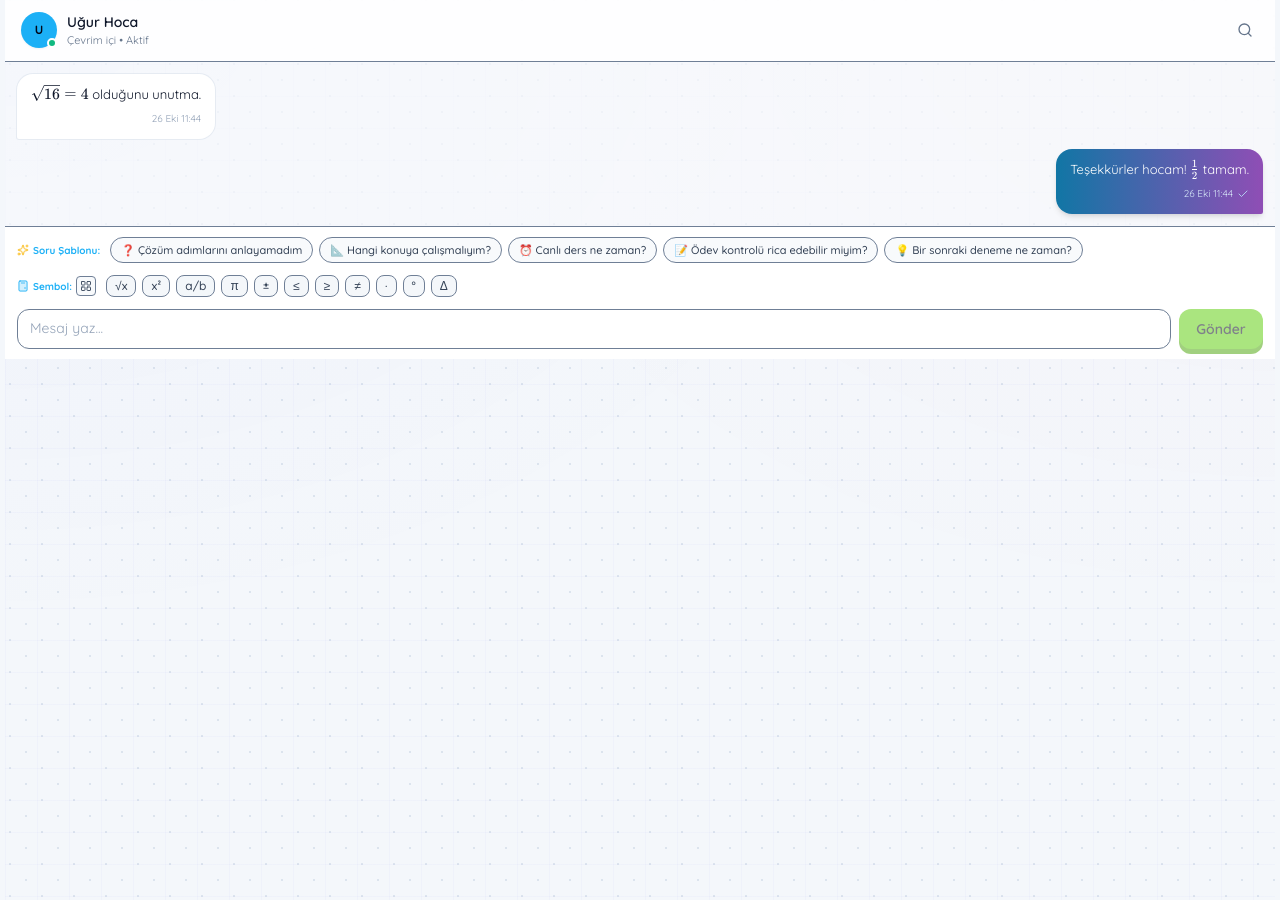
Test: SupportChatPanel Component › sembol ızgara butonuna tıklandığında tüm sembolleri ızgara formatında açar ve kapatır
Step 1. Click the button named "Tüm sembolleri ızgara olarak göster" → point(86, 286), box [76,276,96,296]
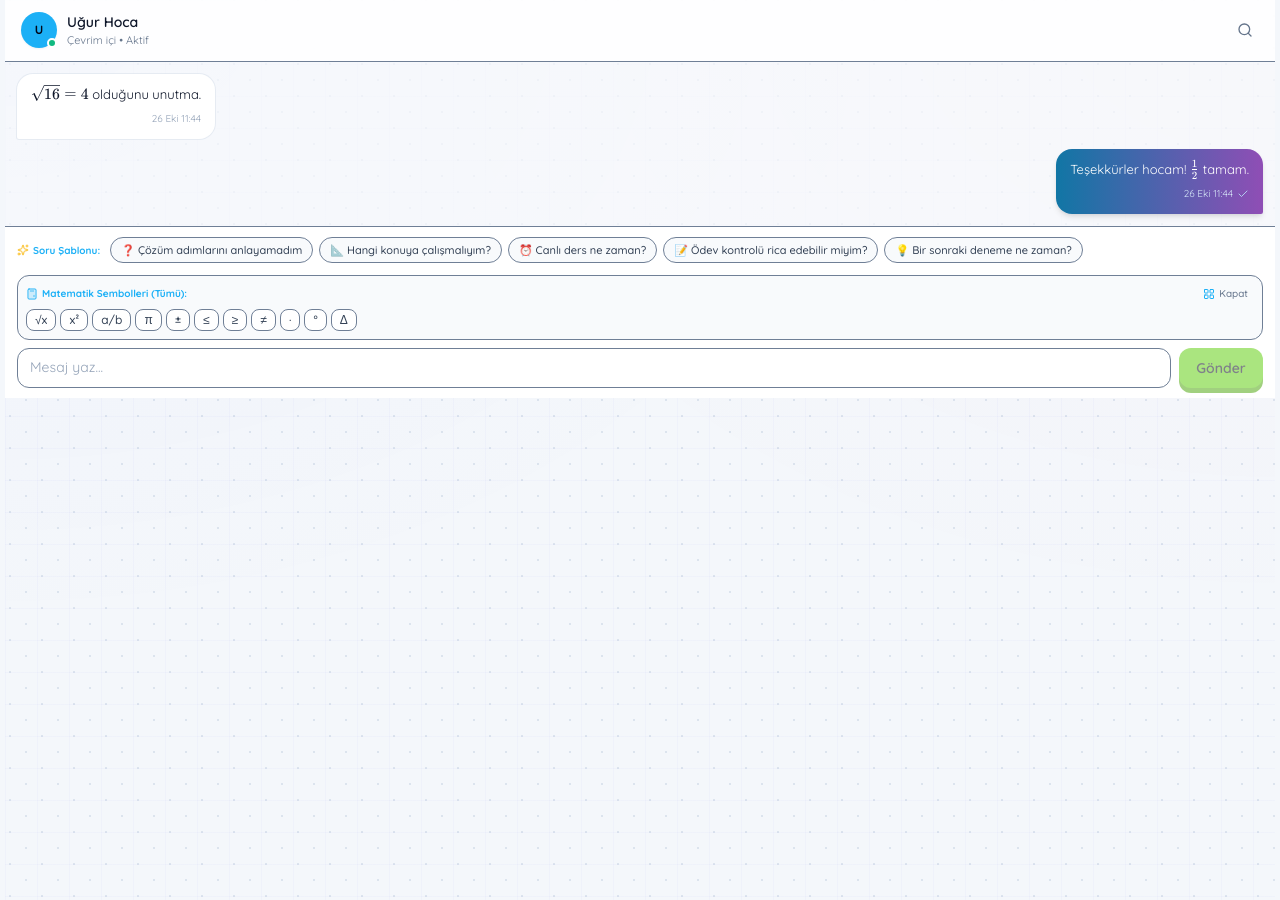
Expected: the text "Matematik Sembolleri (Tümü):" is shown, [26,286,187,301]
Expected: the button "Kapat" is shown
Step 2. Click the button "Kapat" → point(1226, 294), box [1197,284,1254,303]
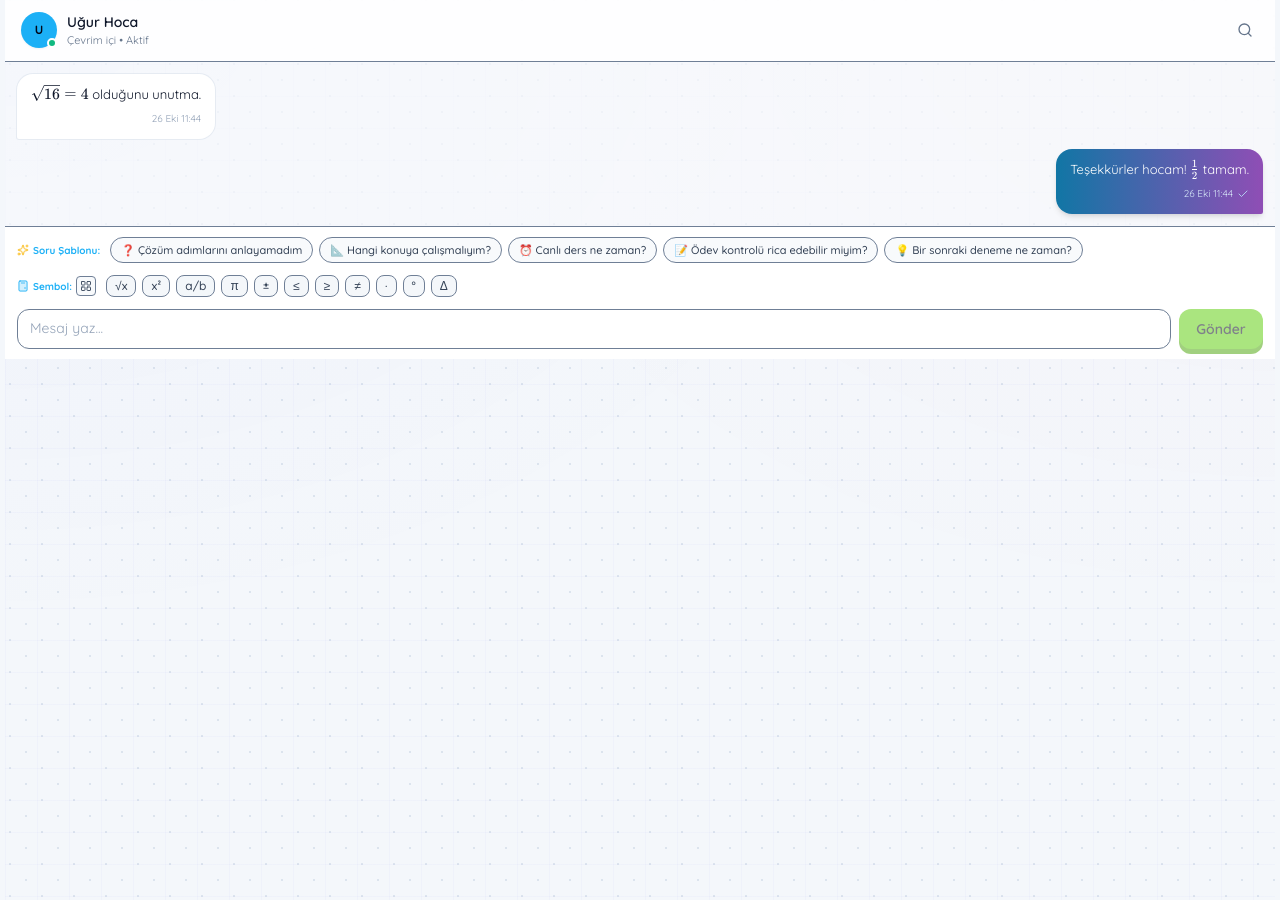
Expected: the text "Sembol:" is shown, [17,279,72,294]
